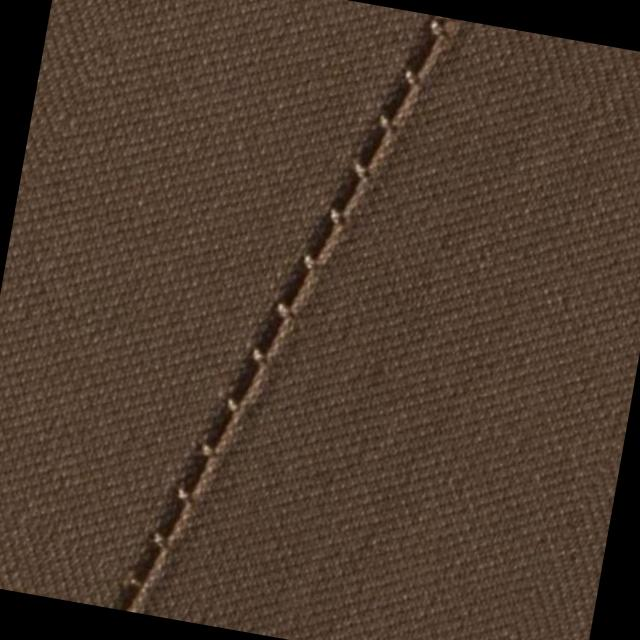gray stitch: (266, 1, 450, 346), (108, 317, 274, 626)
